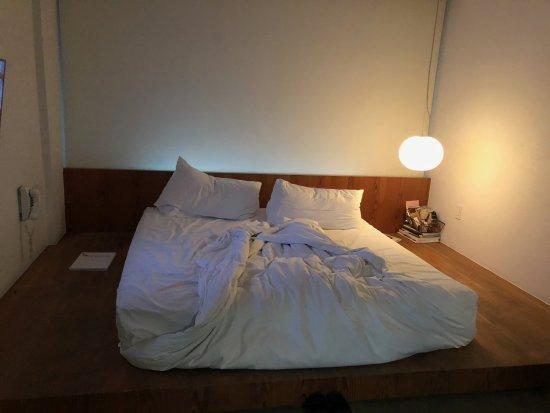Bed-Mattress: (119, 204, 480, 371)
